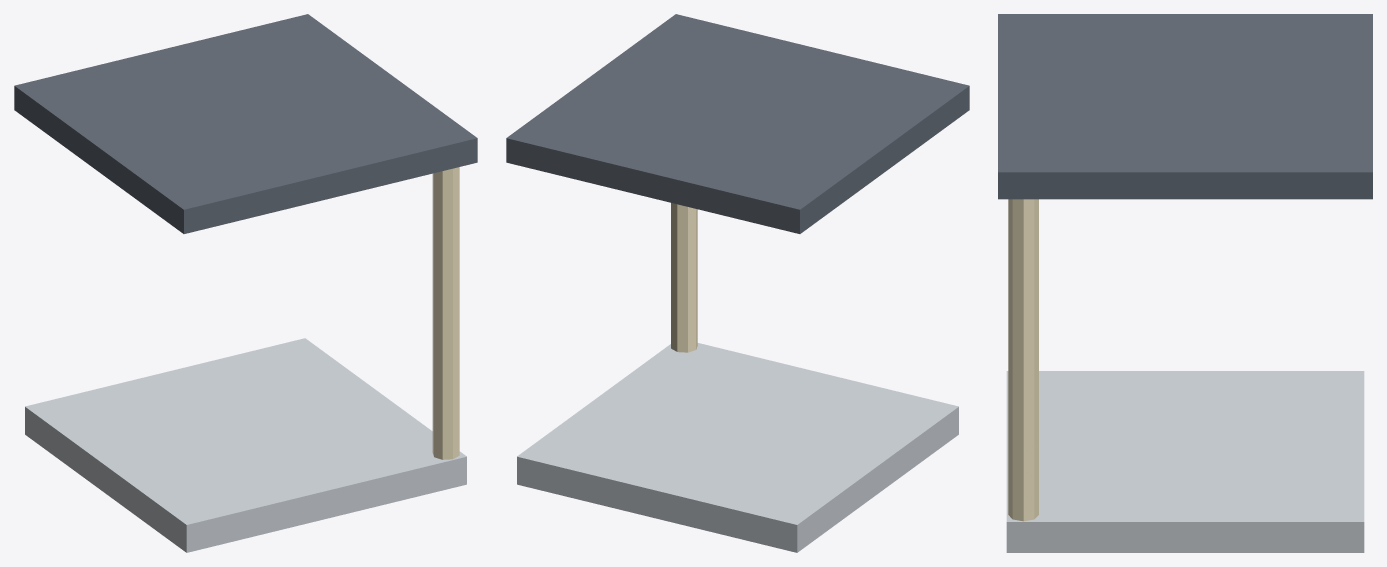
The model's file is montacargas.glb.
The picture shows the model from 3 angles, left to right: view 1: azimuth 30°, elevation 25°; view 2: azimuth 150°, elevation 25°; view 3: azimuth 270°, elevation 25°; orthographic projection. The views are drawn at different scales.
Visible parts, largest first — view 1: techo, plataforma, poste; view 2: techo, plataforma, poste; view 3: techo, plataforma, poste.
Part boxes in pixels (<box>): techo: <box>14,14,477,233</box>; plataforma: <box>25,338,466,552</box>; poste: <box>432,167,459,459</box>; techo: <box>506,14,969,233</box>; plataforma: <box>517,343,958,552</box>; poste: <box>671,203,697,352</box>; techo: <box>998,14,1372,199</box>; plataforma: <box>1006,371,1364,552</box>; poste: <box>1008,199,1038,521</box>.
Bounding box in the file's own units: 0.44 × 0.4975 × 0.44.
